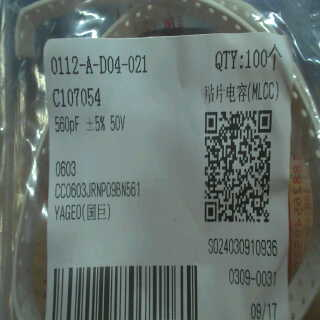560pF: (49, 113, 84, 136)
